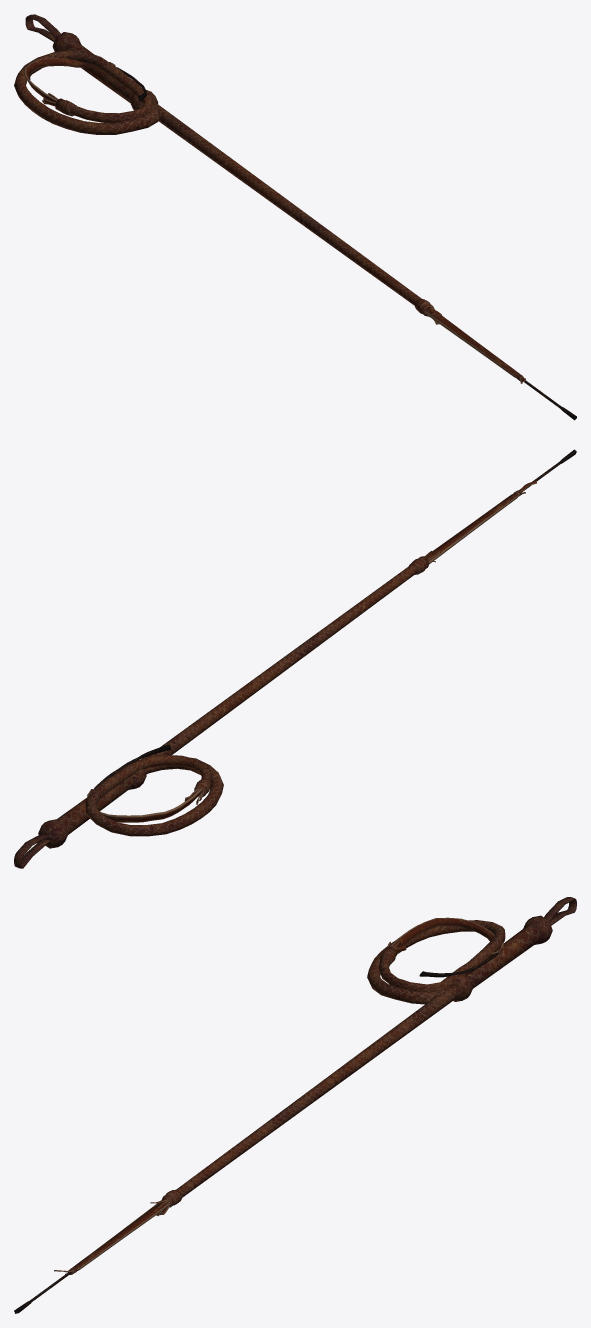
The picture shows the model from 3 angles, top to bottom: view 1: azimuth 30°, elevation 25°; view 2: azimuth 150°, elevation 25°; view 3: azimuth 330°, elevation 25°; orthographic projection. The views are drawn at different scales.
Visible parts, largest first — view 1: WP_A_1200; view 2: WP_A_1200, WP_A_1200.001; view 3: WP_A_1200.
Part boxes in pixels (bbox=[...]): WP_A_1200: bbox=[14, 32, 576, 420]; WP_A_1200: bbox=[38, 449, 576, 848]; WP_A_1200.001: bbox=[14, 834, 50, 868]; WP_A_1200: bbox=[14, 915, 552, 1313].
Bounding box in the file's own units: 26.93 × 8.82 × 247.
Materials: 2 (2 with a texture image).
